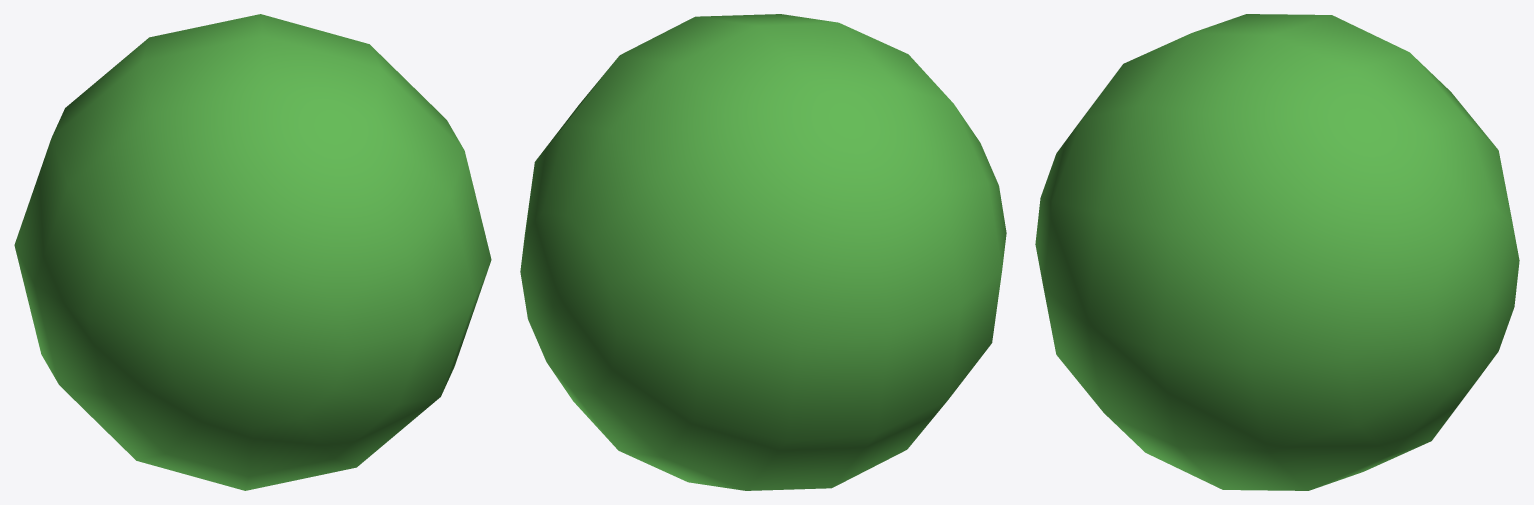
Rendered from linfatico-nasolabial-node-r.glb.
3 renders of one model, left to right at view 1: azimuth 30°, elevation 25°; view 2: azimuth 150°, elevation 25°; view 3: azimuth 270°, elevation 25°, orthographic. The views are drawn at different scales.
Visible parts, largest first — view 1: Nasolabial node.r; view 2: Nasolabial node.r; view 3: Nasolabial node.r.
Boxes of the visible parts, left/top/right/bottom form: Nasolabial node.r: left=14, top=14, right=491, bottom=490; Nasolabial node.r: left=520, top=14, right=1006, bottom=490; Nasolabial node.r: left=1035, top=14, right=1519, bottom=490.
Bounding box in the file's own units: 0.00258 × 0.0026 × 0.00258.
